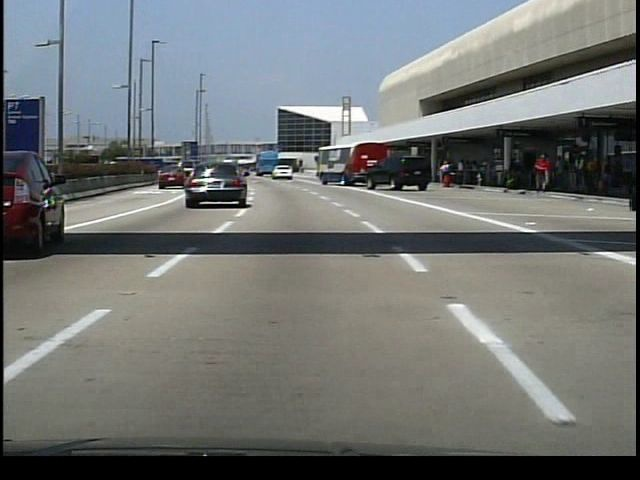person: (528, 151, 552, 194), (597, 156, 615, 193), (572, 151, 585, 191), (439, 158, 454, 188), (508, 156, 519, 186)
